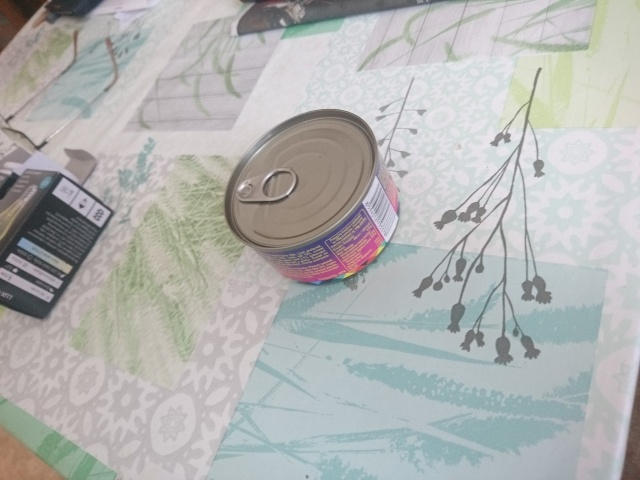Giana Tuna Salad Mexico 185g: (221, 105, 403, 288)
